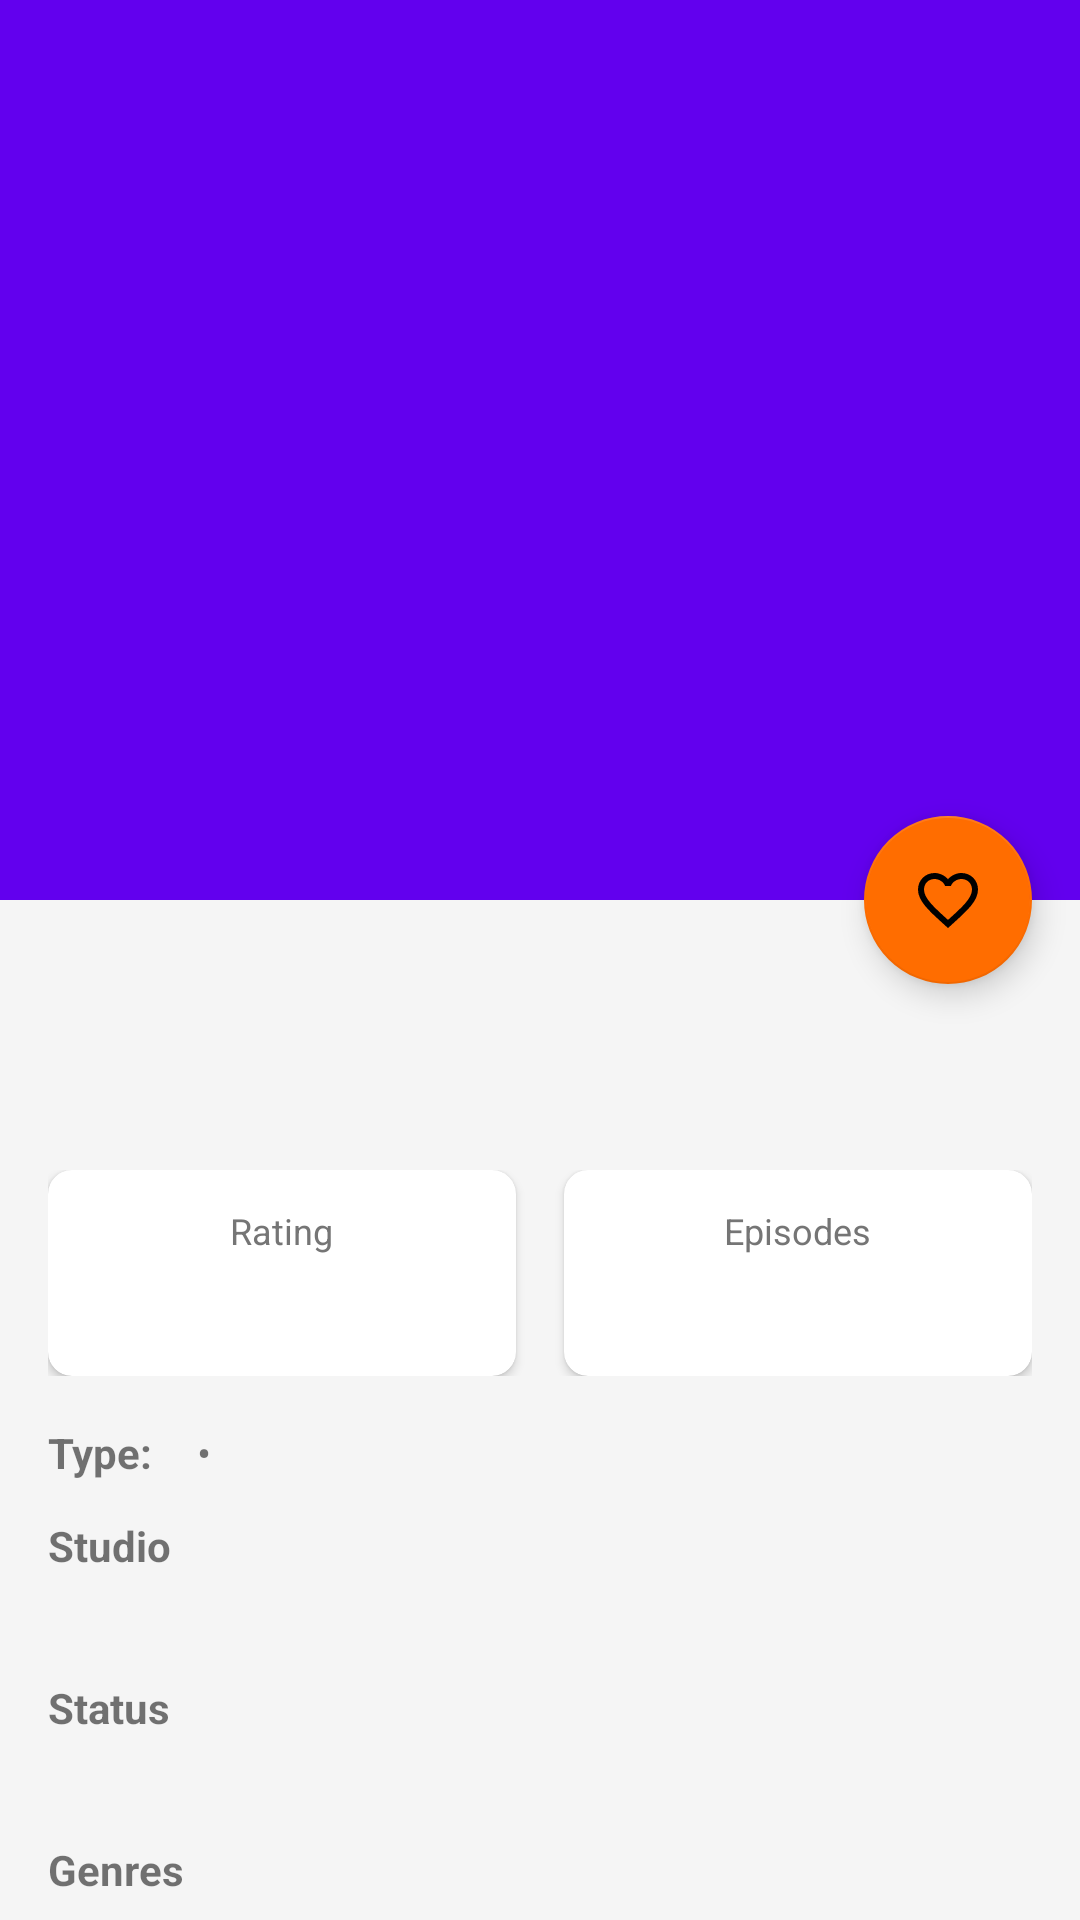

Icon click points for this 1080*1920 phone screenshot, format [x,y]:
favorite border: [948,900]
